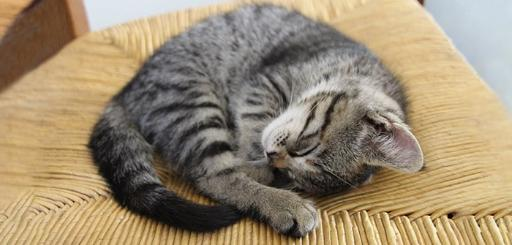cat_sleeping: (90, 4, 424, 236)
